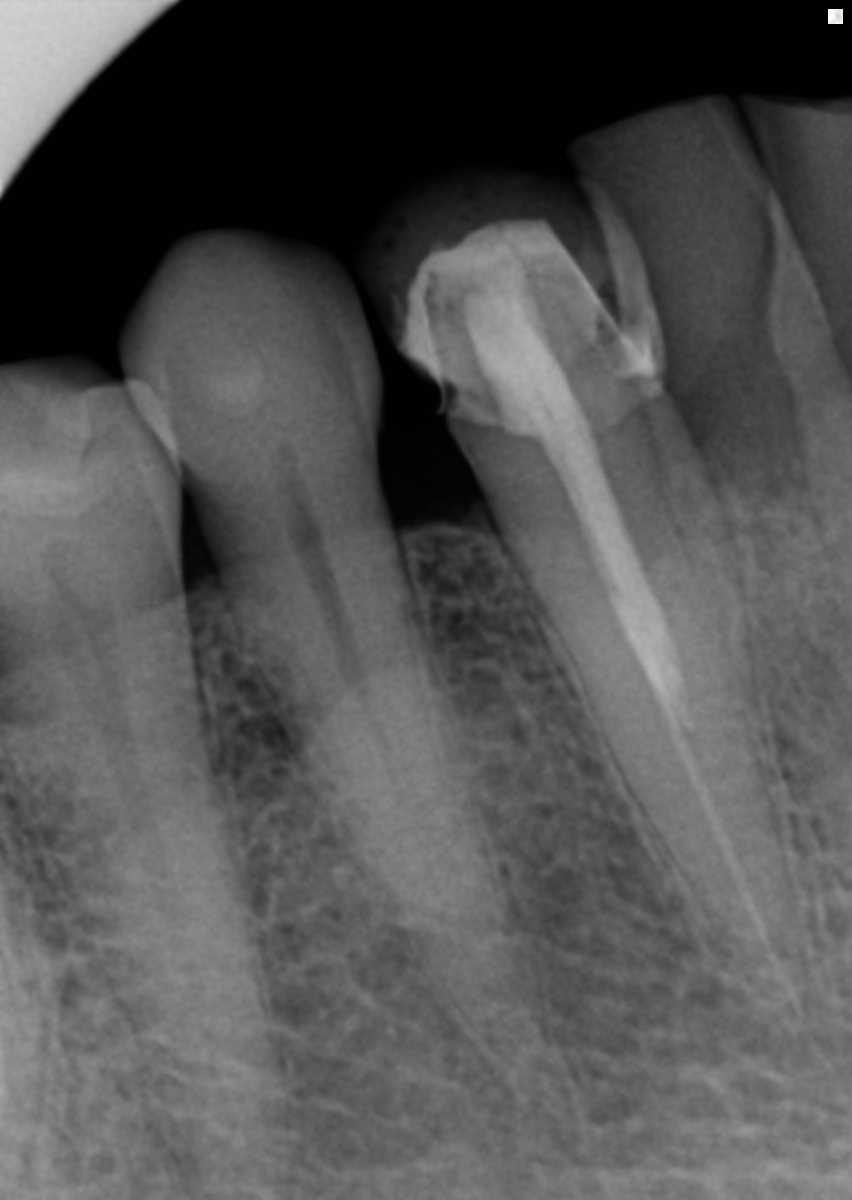Main Canal: (72, 655, 244, 1161), (308, 555, 424, 813)
Main Root: (509, 463, 807, 1014), (0, 635, 287, 1200)
Root Canal Filling: (676, 730, 799, 1010)
